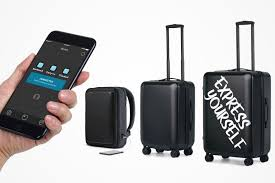suitcase: (203, 20, 270, 167), (140, 24, 192, 157)
